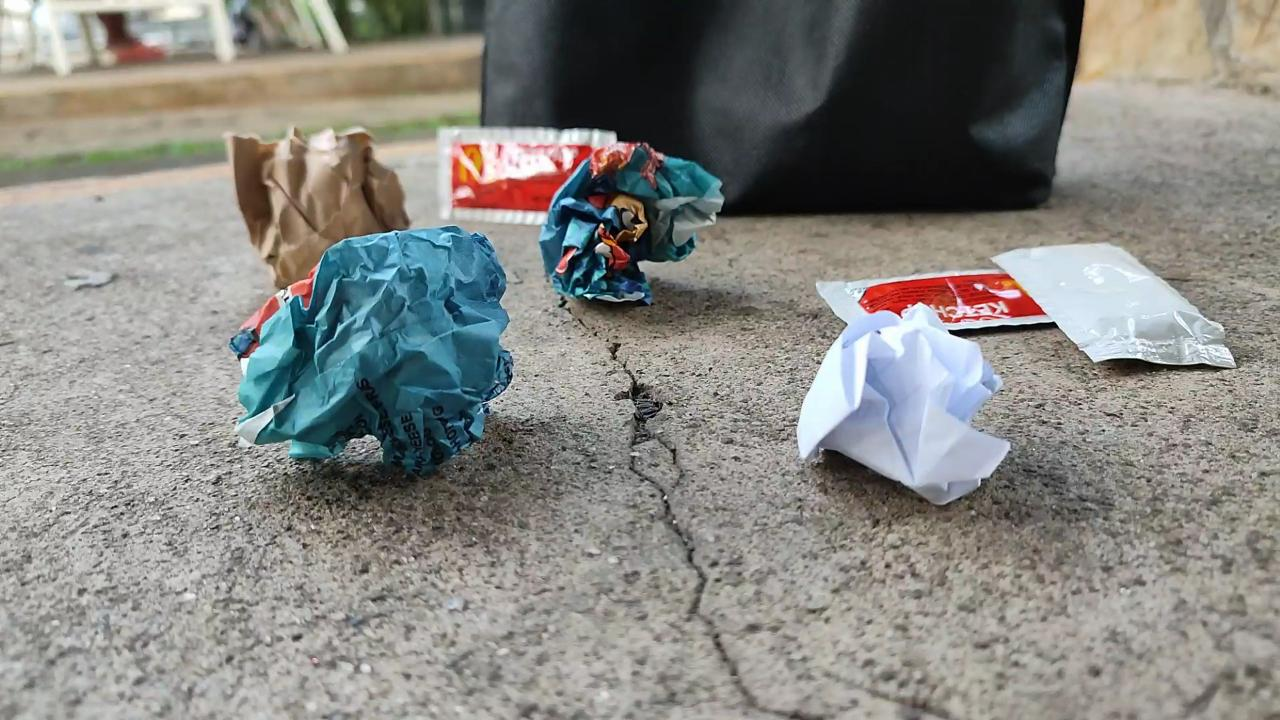Paper: (216, 217, 522, 488), (776, 304, 1022, 515), (211, 120, 420, 292), (531, 144, 726, 320)
